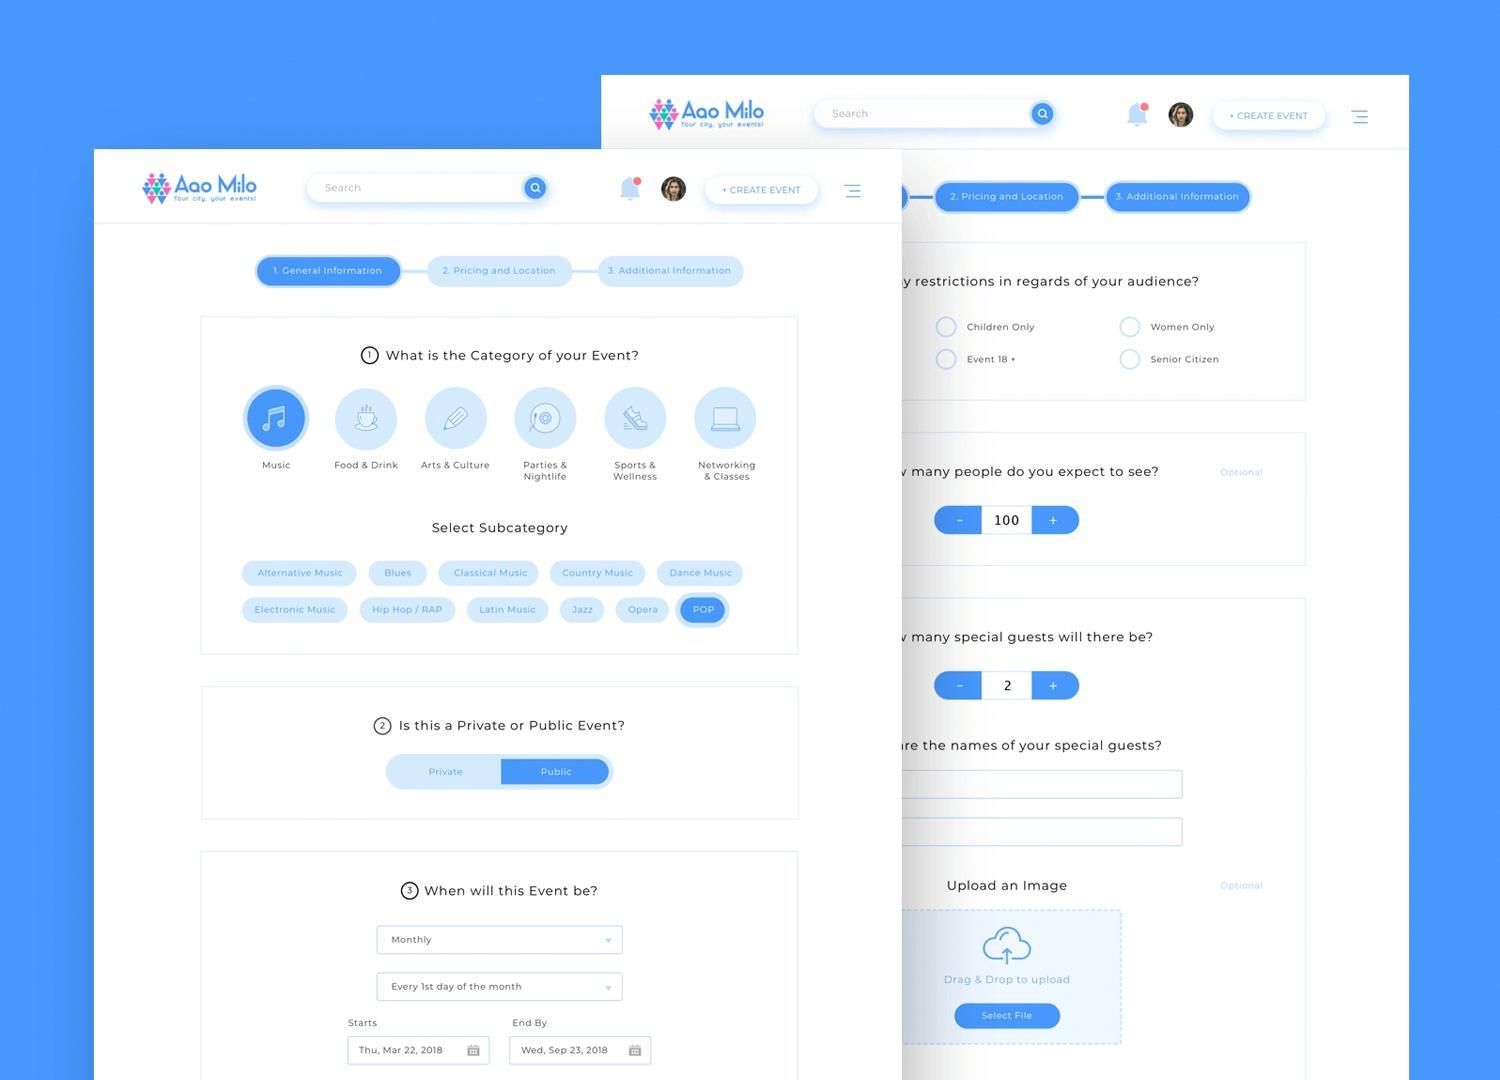button: (1214, 99, 1329, 134), (705, 172, 821, 206), (242, 595, 349, 629), (358, 595, 459, 627), (243, 562, 360, 588), (436, 559, 542, 588), (955, 1003, 1061, 1031), (468, 595, 551, 628), (658, 559, 747, 590), (551, 562, 649, 587), (675, 593, 731, 627), (615, 593, 672, 624), (368, 562, 429, 590), (560, 597, 608, 624)
dropdown: (378, 926, 624, 957), (378, 973, 624, 1001)
icon: (658, 171, 692, 210), (528, 404, 568, 436), (708, 403, 744, 438), (256, 403, 296, 435), (355, 405, 385, 442), (1167, 99, 1200, 129), (445, 403, 474, 436), (622, 404, 650, 438), (620, 171, 648, 204), (1127, 101, 1154, 132)
input: (305, 168, 559, 210), (349, 1037, 491, 1065), (511, 1037, 652, 1065)
label: (698, 458, 762, 488), (521, 458, 575, 485), (333, 458, 402, 477), (614, 463, 666, 486), (1151, 350, 1224, 366), (420, 458, 493, 473), (965, 320, 1038, 336), (1149, 322, 1218, 337), (967, 354, 1016, 367), (260, 460, 293, 474)
radio: (937, 313, 958, 341), (935, 347, 958, 372), (1120, 346, 1142, 372), (1120, 316, 1142, 338)
switch: (385, 754, 615, 791)
